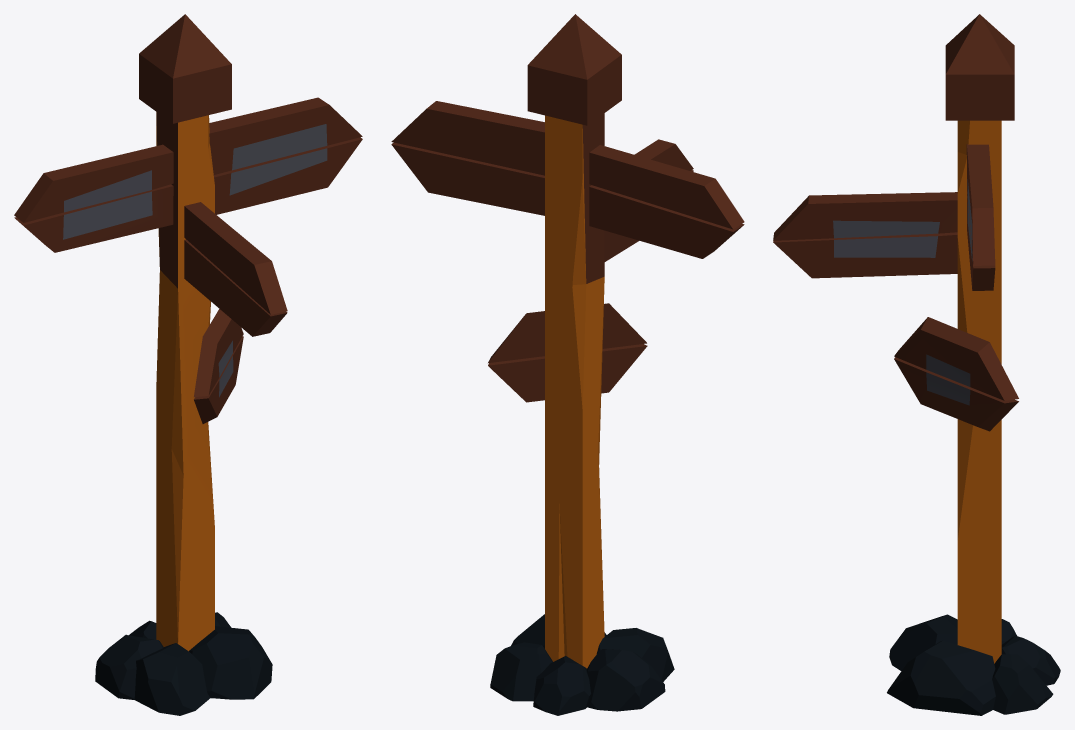
The model's file is Sign_1.fbx.
3 views of the same model, side by side, from view 1: azimuth 30°, elevation 25°; view 2: azimuth 150°, elevation 25°; view 3: azimuth 270°, elevation 25° (orthographic).
Parts seen in each view (by area): view 1: Sign_1; view 2: Sign_1; view 3: Sign_1.
Boxes of the visible parts, x1,y1,x2,y2 form: Sign_1: (14, 14, 362, 715); Sign_1: (391, 14, 744, 715); Sign_1: (773, 14, 1060, 715).
Size of the model in its own units: 43.89 by 81.36 by 31.77.
